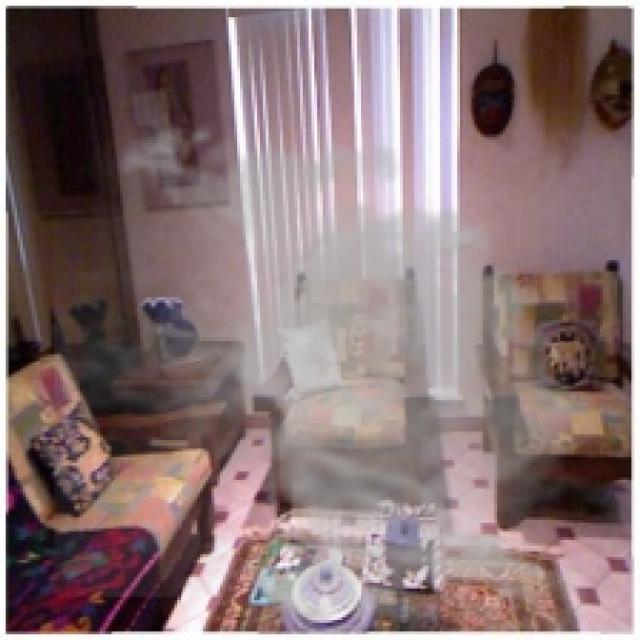Smoke: (54, 109, 617, 632)
